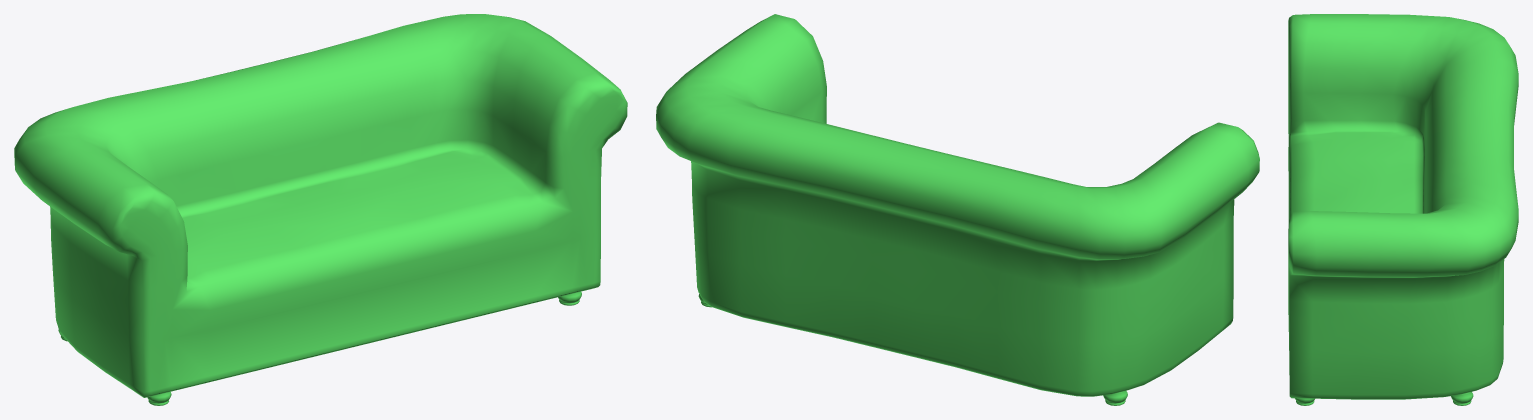
Rendered from SOFA 1.glb.
3 renders of one model, left to right at view 1: azimuth 30°, elevation 25°; view 2: azimuth 150°, elevation 25°; view 3: azimuth 270°, elevation 25°, orthographic. The views are drawn at different scales.
Parts seen in each view (by area): view 1: sofa_1; view 2: sofa_1; view 3: sofa_1.
Part boxes in pixels (x1,y1,x2,y2): sofa_1: [14, 14, 627, 405]; sofa_1: [656, 14, 1259, 405]; sofa_1: [1288, 14, 1518, 405].
Bounding box in the file's own units: 1.81 × 0.726 × 0.7758.
